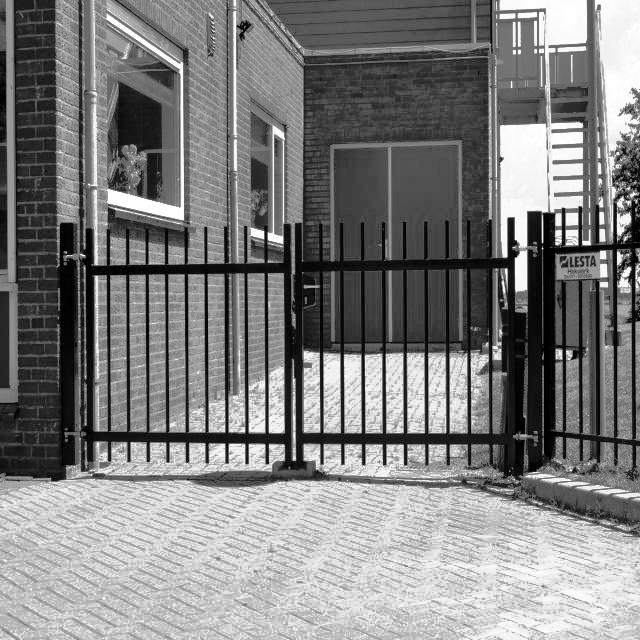fences: (88, 228, 630, 471)
